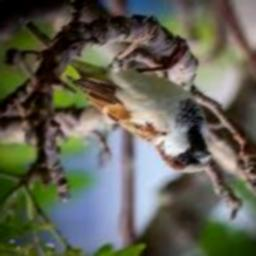Sparrow: (67, 31, 212, 174)
